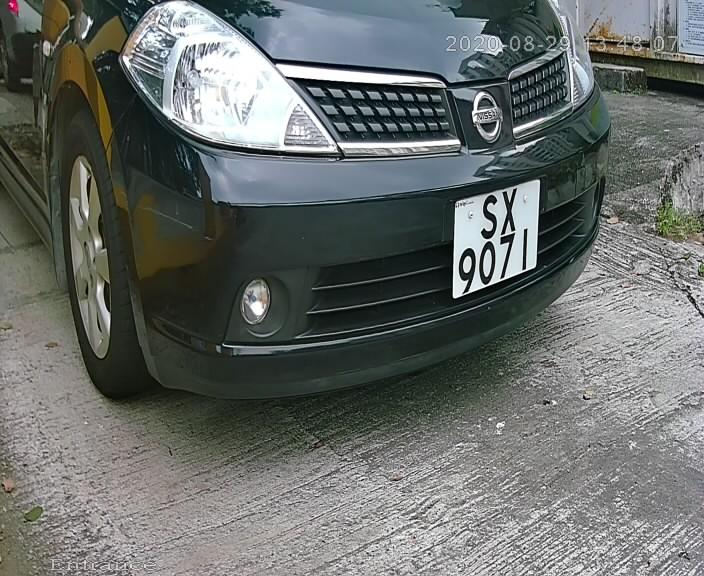License Plate: (441, 178, 547, 304)
